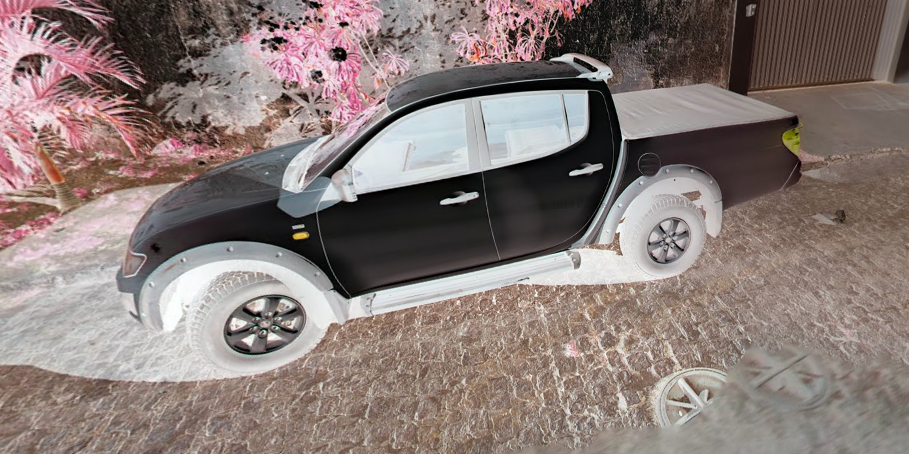car: (114, 49, 807, 379)
